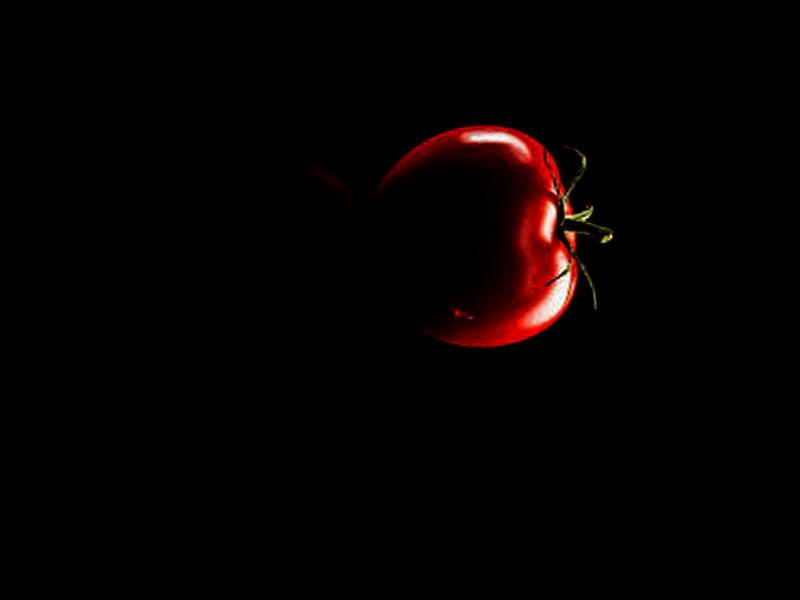Tomato: (368, 116, 592, 358)
